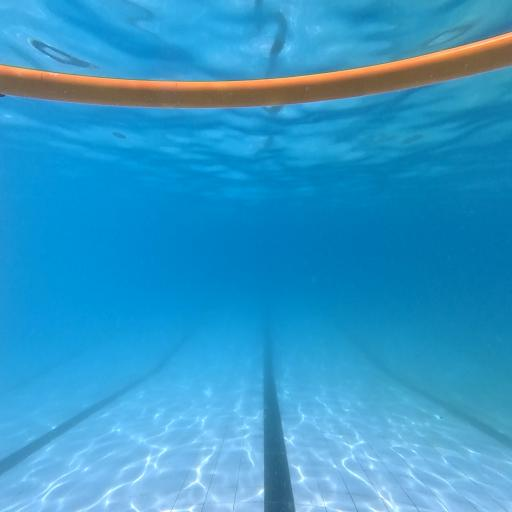upper_gate: (1, 30, 512, 109)
